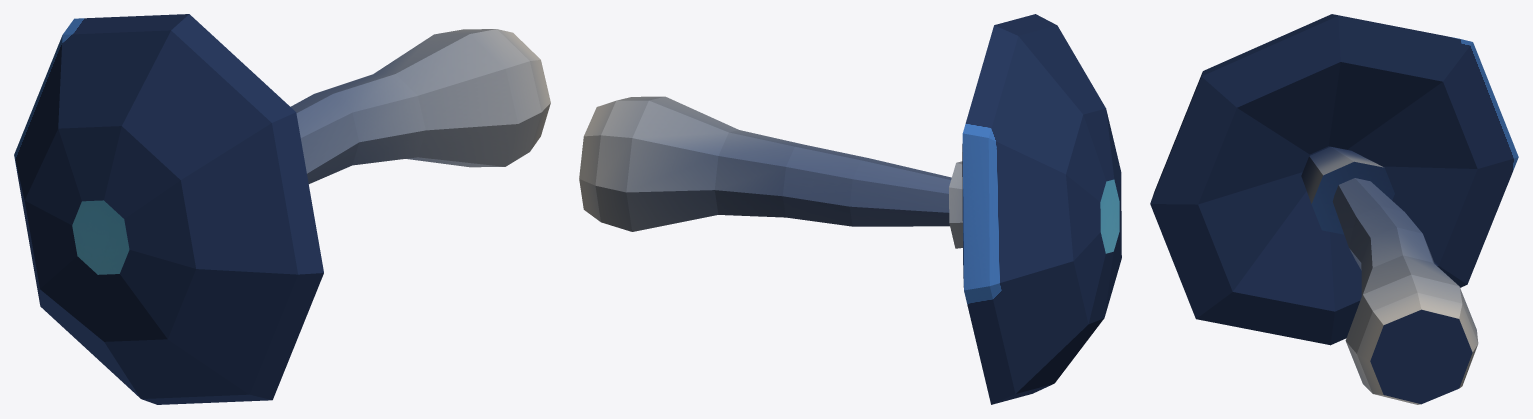
The model's file is Hongo-Suelo.fbx.
The picture shows the model from 3 angles, left to right: view 1: azimuth 30°, elevation 25°; view 2: azimuth 150°, elevation 25°; view 3: azimuth 270°, elevation 25°; orthographic projection. The views are drawn at different scales.
Parts seen in each view (by area): view 1: Hongo-suelo; view 2: Hongo-suelo; view 3: Hongo-suelo.
Part boxes in pixels (x1=…): Hongo-suelo: x1=14, y1=14, x2=550, y2=404; Hongo-suelo: x1=579, y1=14, x2=1121, y2=404; Hongo-suelo: x1=1150, y1=14, x2=1518, y2=404.
Bounding box in the file's own units: 50.1 × 36.08 × 34.9.
